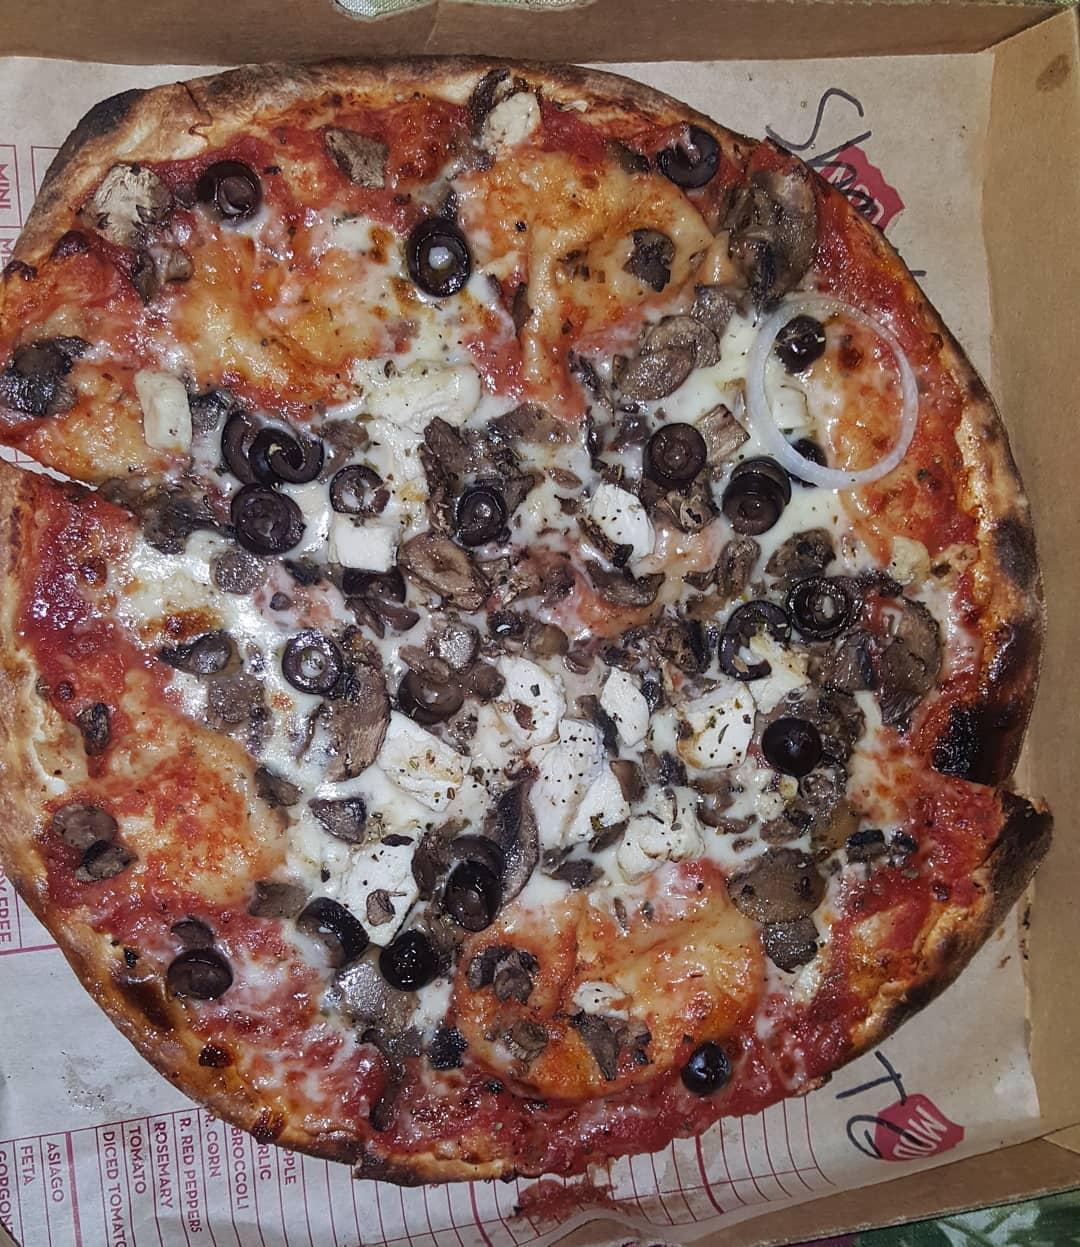Mushroom: (741, 292, 925, 502), (728, 768, 852, 968), (847, 570, 957, 740), (478, 546, 660, 646), (411, 384, 583, 485), (592, 741, 754, 838), (99, 165, 203, 313), (722, 172, 821, 304), (467, 760, 555, 906), (321, 621, 390, 786), (156, 625, 271, 720), (0, 326, 102, 423), (53, 788, 143, 892), (459, 63, 546, 160), (121, 477, 226, 558), (394, 537, 492, 612), (684, 525, 769, 598), (758, 516, 839, 589), (313, 125, 393, 187), (787, 645, 885, 690), (208, 550, 262, 596)
Olives: (218, 412, 333, 482), (422, 833, 512, 921), (399, 212, 476, 310), (706, 597, 791, 685), (223, 486, 307, 555), (191, 155, 268, 227), (373, 923, 450, 991), (721, 455, 794, 527), (658, 119, 729, 190), (639, 416, 710, 486), (298, 899, 369, 967), (393, 660, 465, 723), (760, 712, 827, 779), (327, 456, 391, 526), (277, 625, 342, 690), (793, 569, 853, 640), (448, 482, 508, 552), (764, 308, 828, 370), (163, 944, 235, 997), (676, 1030, 726, 1101), (786, 436, 828, 489)
Pizza: (0, 52, 1058, 1190)
